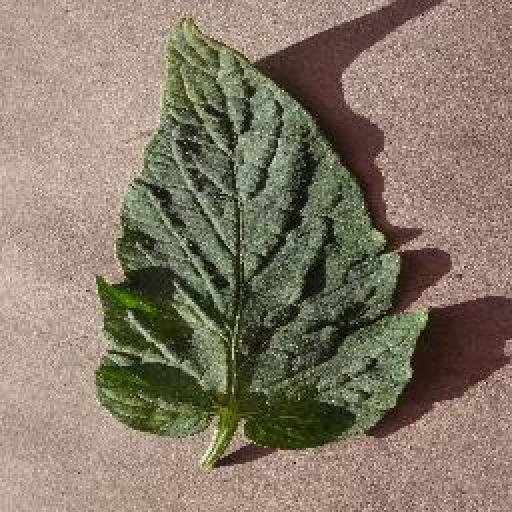Spider Mites: (95, 17, 429, 451)
